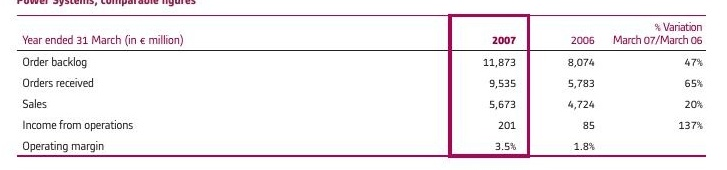table: (0, 0, 727, 170)
